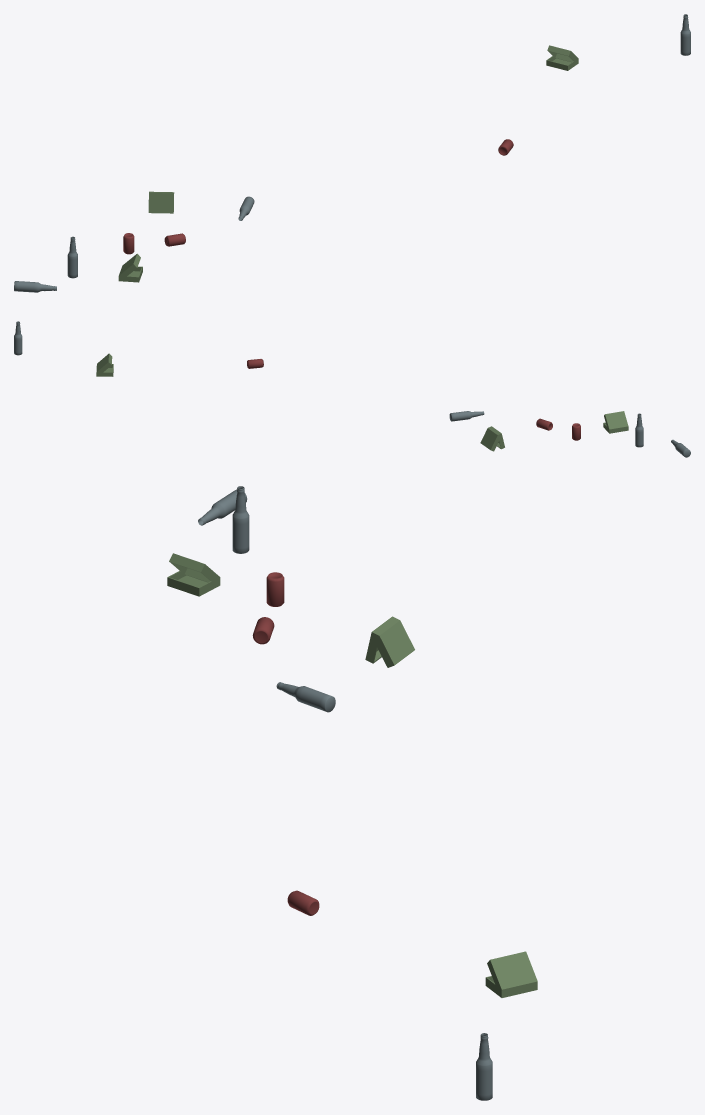
File: tsmms_litter.gltf
The picture shows the model from 3 angles, top to bottom: view 1: azimuth 30°, elevation 25°; view 2: azimuth 150°, elevation 25°; view 3: azimuth 270°, elevation 25°; orthographic projection. The views are drawn at different scales.
Visible parts, largest first — view 1: Plain_Cartons, Plain_Bottles, Plain_Cans; view 2: Plain_Cartons, Plain_Bottles, Plain_Cans; view 3: Plain_Cartons, Plain_Bottles, Plain_Cans.
Boxes of the visible parts, left/top/right/bottom form: Plain_Cartons: left=118, top=45, right=578, bottom=282; Plain_Bottles: left=14, top=14, right=690, bottom=292; Plain_Cans: left=123, top=139, right=513, bottom=254; Plain_Cartons: left=96, top=353, right=628, bottom=451; Plain_Bottles: left=14, top=321, right=690, bottom=457; Plain_Cans: left=247, top=359, right=580, bottom=440; Plain_Cartons: left=167, top=553, right=537, bottom=997; Plain_Bottles: left=198, top=486, right=492, bottom=1100; Plain_Cans: left=252, top=572, right=319, bottom=915.
Bounding box in the file's own units: 8.52 × 0.4276 × 2.23.
